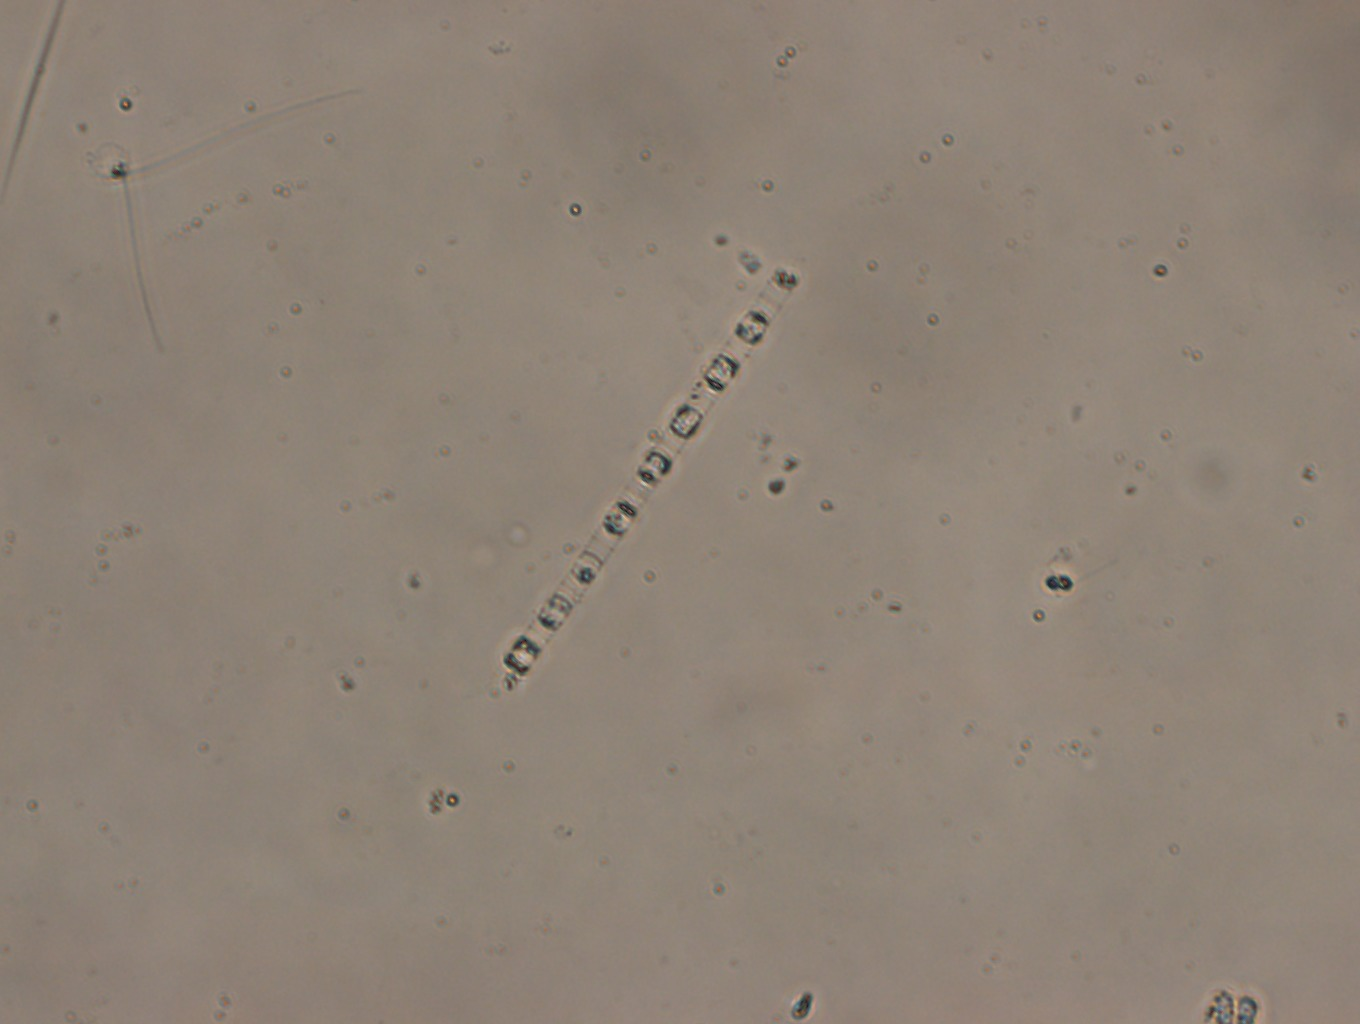coscinodiscus: (497, 261, 802, 695)
